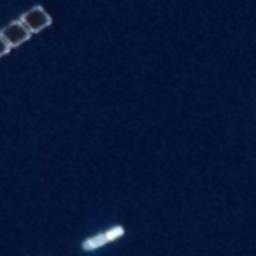square_solid: (17, 3, 55, 34), (1, 17, 32, 50)
